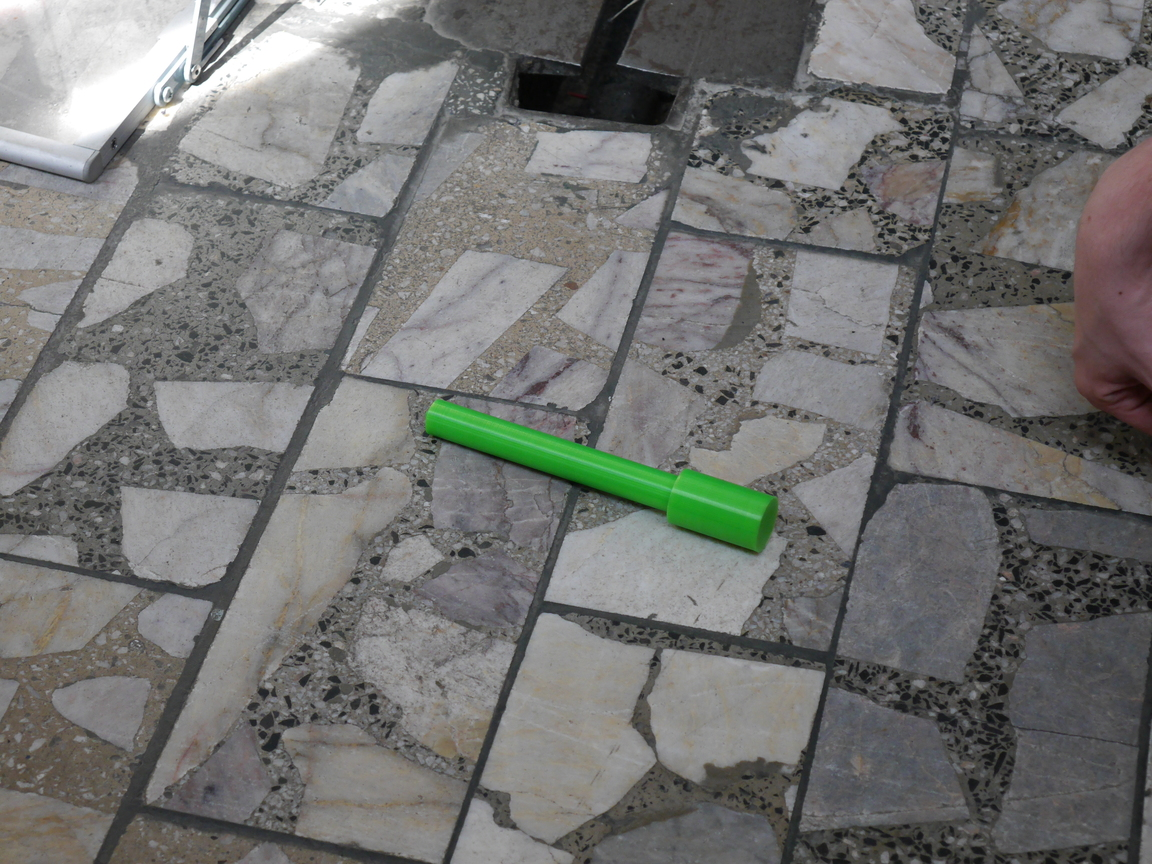cargo_g: (423, 397, 778, 557)
